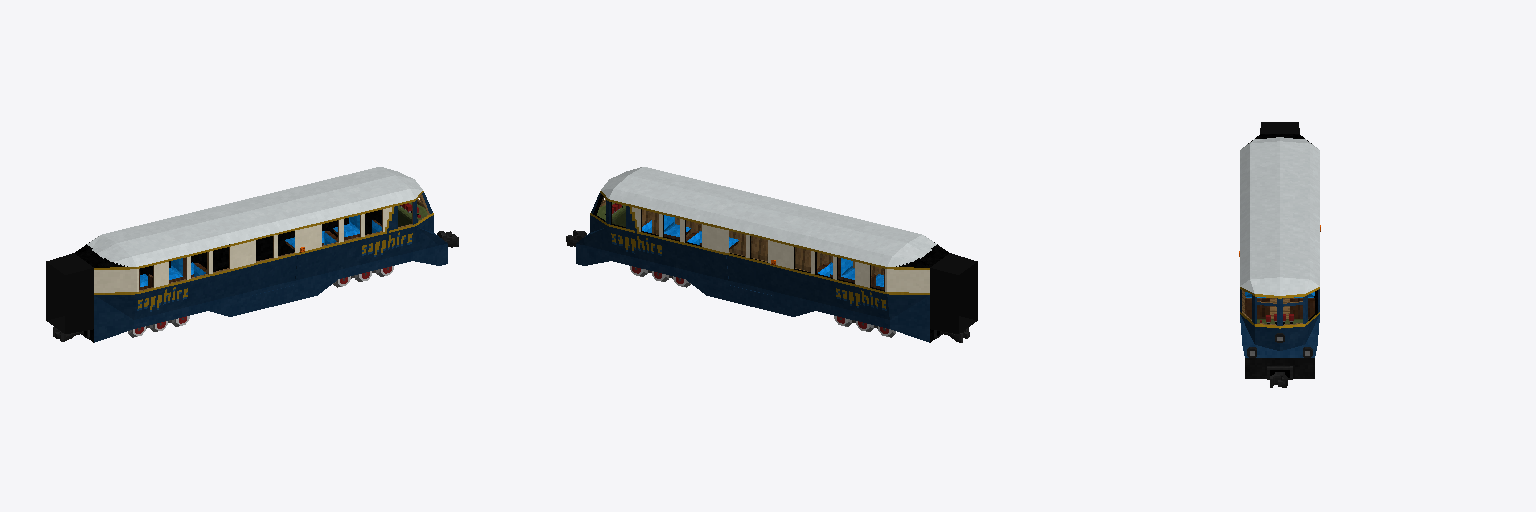
The picture shows the model from 3 angles: view 1: azimuth 30°, elevation 25°; view 2: azimuth 150°, elevation 25°; view 3: azimuth 270°, elevation 25°; orthographic projection.
Parts seen in each view (by area): view 1: FRAME_ext_roof, FRAME_ext_body.002, FRAME_ext_body.001, connector.001, FRAME_int_body.001, DOOR_6_CG_doorleft_NOTOUCH, DOOR_5_CG_doorleft_NOTOUCH, FRAME_int_body.002; view 2: FRAME_ext_roof, FRAME_ext_body.002, FRAME_ext_body.001, connector.001, FRAME_int_body.001, DOOR_4_CG_doorright_NOTOUCH, DOOR_3_CG_doorright_NOTOUCH, FRAME_int_body.002; view 3: FRAME_ext_roof, FRAME_ext_body.001.
Part boxes in pixels (left/top/right/bottom): FRAME_ext_roof: left=75, top=167, right=422, bottom=267; FRAME_ext_body.002: left=89, top=239, right=273, bottom=342; FRAME_ext_body.001: left=274, top=191, right=447, bottom=305; connector.001: left=46, top=253, right=93, bottom=333; FRAME_int_body.001: left=260, top=194, right=429, bottom=259; DOOR_6_CG_doorleft_NOTOUCH: left=273, top=228, right=297, bottom=289; DOOR_5_CG_doorleft_NOTOUCH: left=252, top=233, right=275, bottom=294; FRAME_int_body.002: left=139, top=247, right=229, bottom=291; FRAME_ext_roof: left=601, top=167, right=948, bottom=267; FRAME_ext_body.002: left=750, top=239, right=934, bottom=342; FRAME_ext_body.001: left=576, top=191, right=749, bottom=305; connector.001: left=930, top=253, right=977, bottom=333; FRAME_int_body.001: left=593, top=194, right=763, bottom=259; DOOR_4_CG_doorright_NOTOUCH: left=726, top=228, right=750, bottom=289; DOOR_3_CG_doorright_NOTOUCH: left=748, top=233, right=771, bottom=294; FRAME_int_body.002: left=794, top=247, right=884, bottom=291; FRAME_ext_roof: left=1240, top=134, right=1319, bottom=295; FRAME_ext_body.001: left=1240, top=287, right=1319, bottom=378.
Bounding box in the file's own units: 11.5 × 2.56 × 2.06.
Materials: 9 (9 with a texture image).